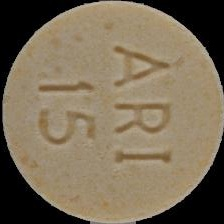48433-118: (0, 0, 224, 224)
